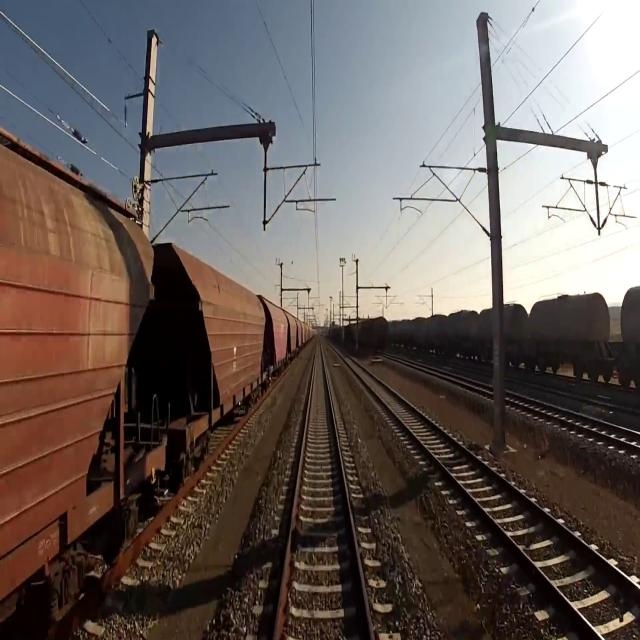rail-track: (343, 354, 640, 639), (283, 343, 362, 597), (504, 393, 640, 441), (365, 615, 369, 639)
